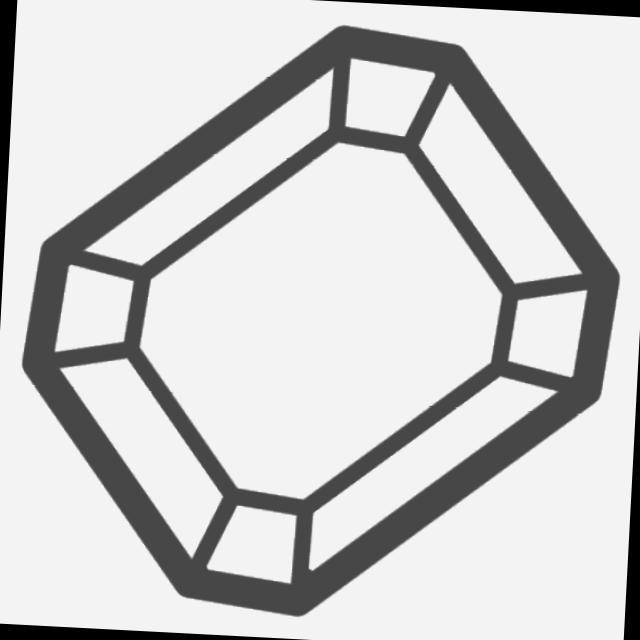emerald: (3, 1, 640, 640)
